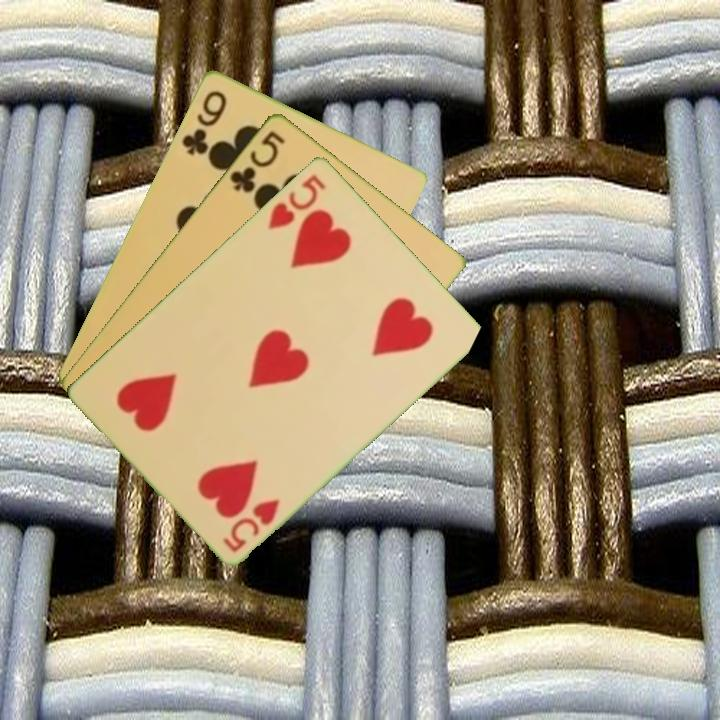5c: (226, 126, 288, 196)
5h: (264, 170, 329, 232), (219, 494, 283, 555)
9c: (178, 86, 230, 158)
